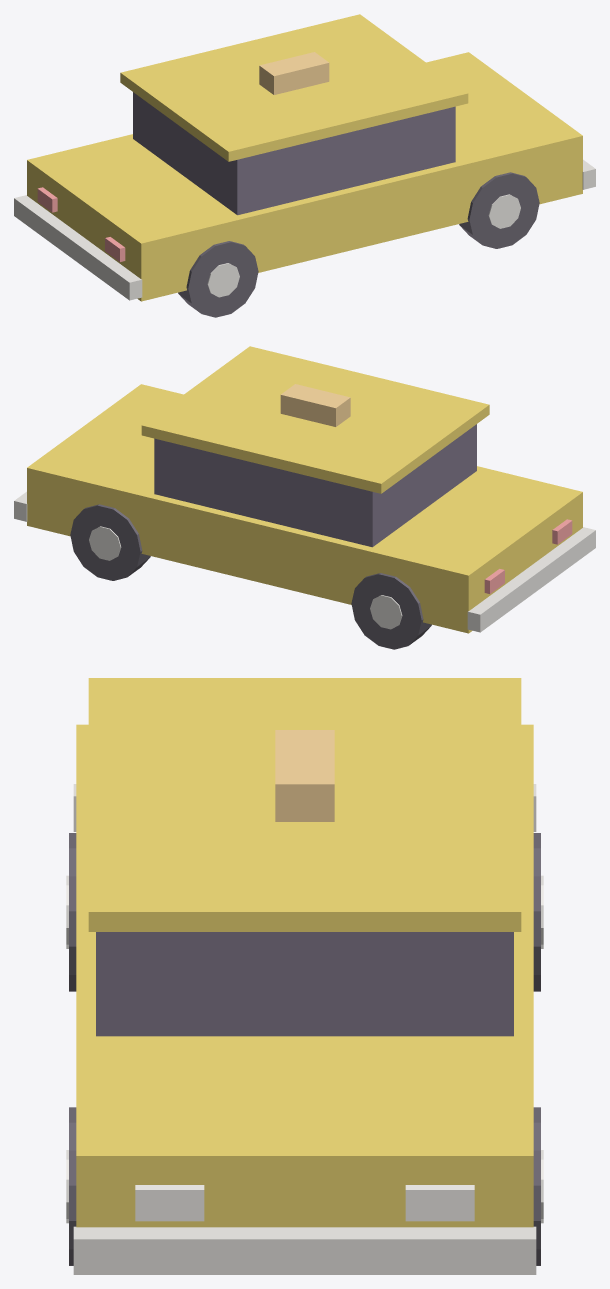
Rendered from car_taxi.glb.
3 renders of one model, top to bottom at view 1: azimuth 30°, elevation 25°; view 2: azimuth 150°, elevation 25°; view 3: azimuth 270°, elevation 25°, orthographic. The views are drawn at different scales.
Parts seen in each view (by area): view 1: c0, c2, c1, c11, c5, c9, c17, c6, c10; view 2: c0, c2, c1, c11, c3, c7, c17, c4, c8; view 3: c2, c0, c1, c12, c17, c13, c15, c3, c5, c7, c9.
Part boxes in pixels (x1=…): c0: x1=27, y1=52, x2=582, y2=301; c2: x1=120, y1=14, x2=468, y2=161; c1: x1=133, y1=92, x2=455, y2=215; c11: x1=14, y1=195, x2=142, y2=300; c5: x1=178, y1=241, x2=258, y2=317; c9: x1=459, y1=172, x2=539, y2=248; c17: x1=259, y1=52, x2=329, y2=94; c6: x1=207, y1=263, x2=239, y2=297; c10: x1=488, y1=194, x2=520, y2=228; c0: x1=27, y1=384, x2=582, y2=633; c2: x1=141, y1=346, x2=489, y2=493; c1: x1=154, y1=424, x2=476, y2=547; c11: x1=467, y1=527, x2=595, y2=632; c3: x1=351, y1=573, x2=431, y2=649; c7: x1=70, y1=504, x2=150, y2=580; c17: x1=280, y1=384, x2=350, y2=426; c4: x1=370, y1=595, x2=402, y2=629; c8: x1=89, y1=526, x2=121, y2=560; c2: x1=88, y1=678, x2=521, y2=931; c0: x1=76, y1=724, x2=533, y2=1227; c1: x1=96, y1=932, x2=513, y2=1036; c12: x1=73, y1=1226, x2=536, y2=1274; c17: x1=275, y1=730, x2=334, y2=821; c13: x1=405, y1=1185, x2=474, y2=1221; c15: x1=135, y1=1185, x2=204, y2=1221; c3: x1=533, y1=833, x2=540, y2=991; c5: x1=69, y1=833, x2=76, y2=991; c7: x1=533, y1=1107, x2=540, y2=1265; c9: x1=69, y1=1107, x2=76, y2=1265.
Size of the model in its own units: 4.38 by 1.59 by 1.94.
